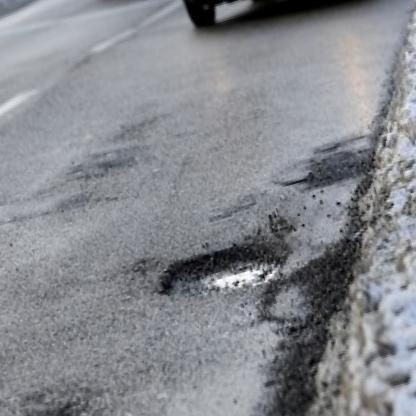pothole: (151, 225, 296, 311)
